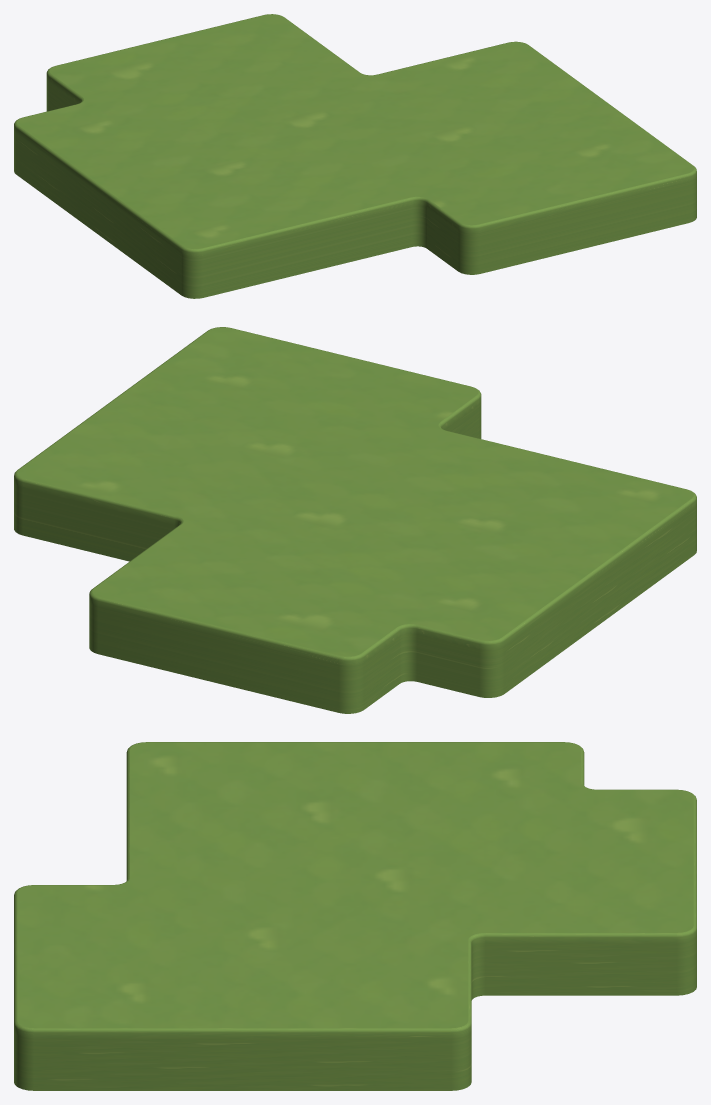
Rendered from Island_beveled.glb.
3 views of the same model, one above another, from view 1: azimuth 30°, elevation 25°; view 2: azimuth 150°, elevation 25°; view 3: azimuth 270°, elevation 25° (orthographic). The views are drawn at different scales.
Visible parts, largest first — view 1: geometry_0; view 2: geometry_0; view 3: geometry_0.
Part boxes in pixels (<box>): geometry_0: <box>14,14,696,298</box>; geometry_0: <box>14,327,696,713</box>; geometry_0: <box>14,742,696,1090</box>.
Size of the model in its own units: 20.2 by 2 by 20.2.
1 material, 1 textured.
